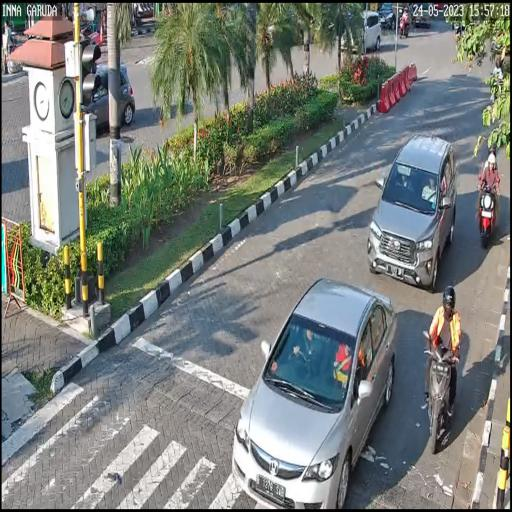mobil: (233, 274, 398, 509), (370, 129, 460, 292)
motor: (421, 328, 462, 454), (475, 173, 501, 249)
